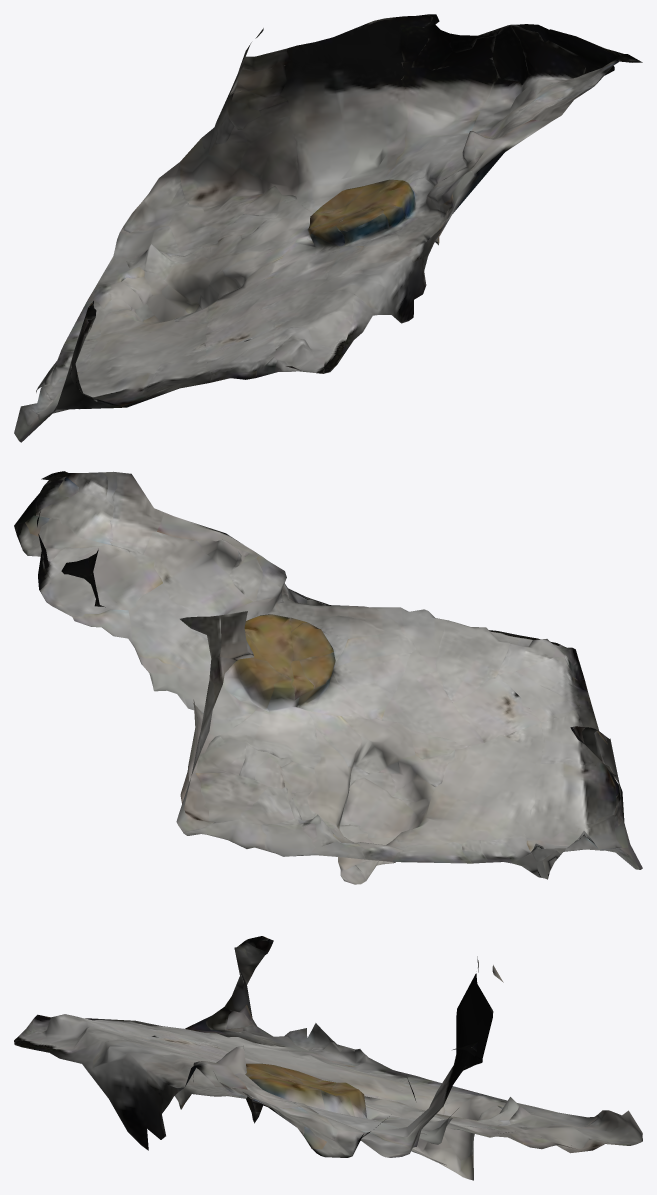
The model's file is hall.glb.
3 views of the same model, one above another, from view 1: azimuth 30°, elevation 25°; view 2: azimuth 150°, elevation 25°; view 3: azimuth 270°, elevation 25° (orthographic). The views are drawn at different scales.
Bounding box in the file's own units: 1.43 × 0.5767 × 1.06.
1 material, 1 textured.
